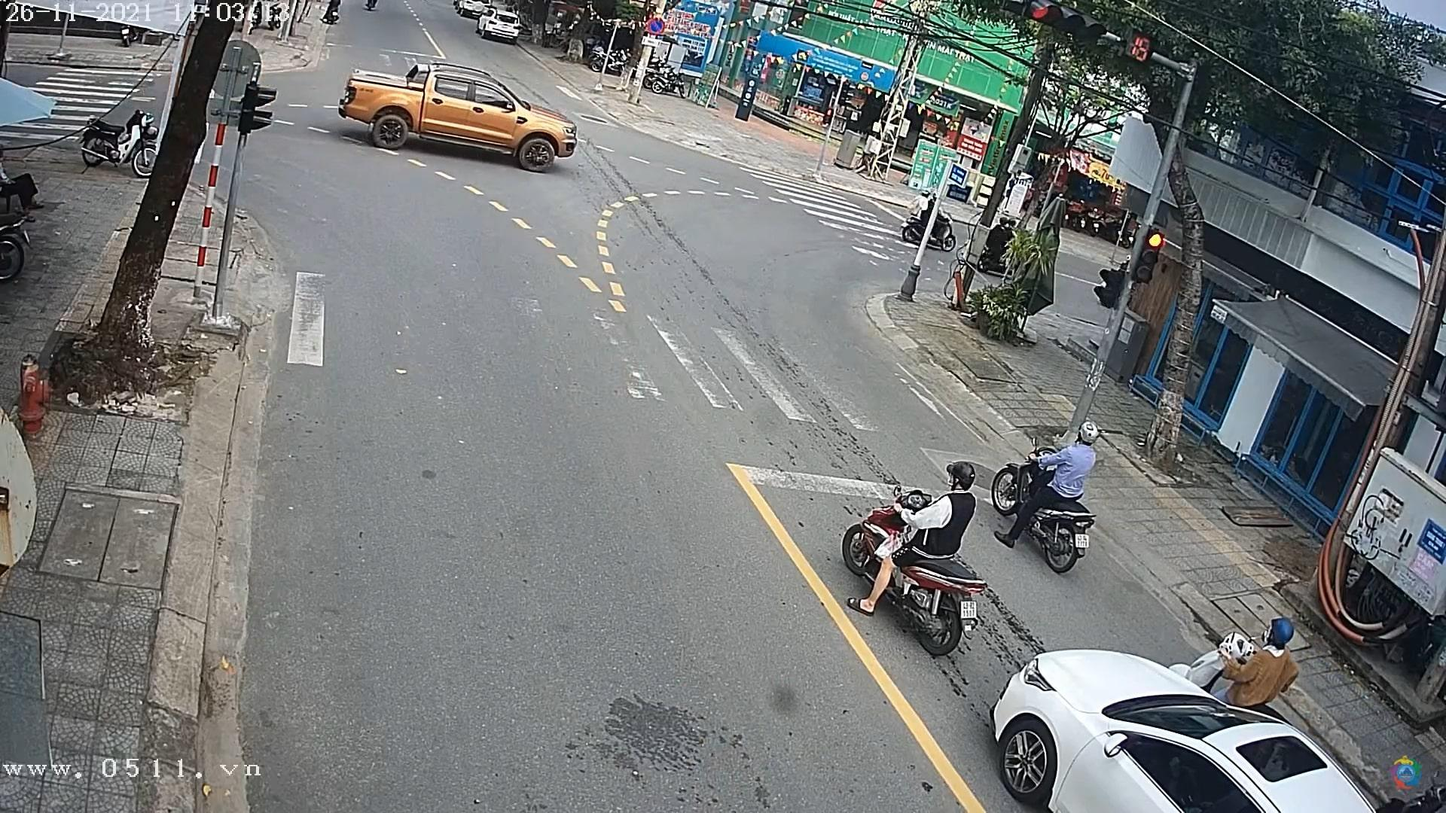car: (993, 643, 1442, 813), (339, 59, 585, 173)
motorbike: (831, 484, 981, 660), (990, 422, 1102, 575)
